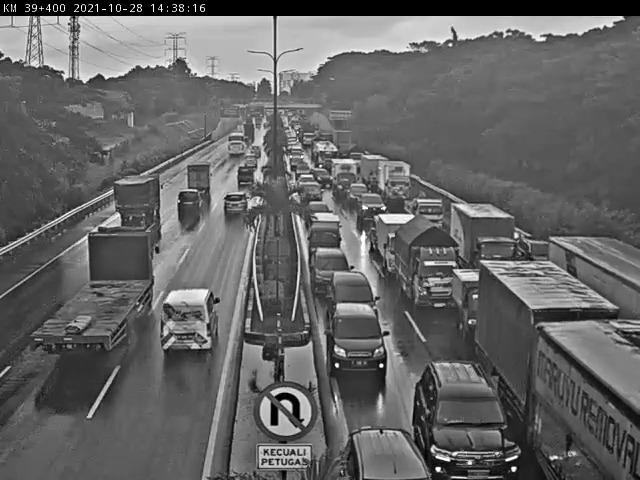big bus: (225, 129, 248, 159)
big truck: (31, 219, 159, 366), (396, 215, 465, 312), (375, 211, 428, 278), (115, 170, 168, 225), (185, 156, 228, 206)
car: (482, 260, 640, 480), (410, 353, 518, 480), (340, 425, 433, 480), (329, 301, 392, 382), (160, 283, 227, 359), (450, 202, 526, 261), (452, 266, 506, 342), (325, 269, 388, 331), (308, 246, 349, 297), (307, 219, 351, 254), (220, 189, 256, 221), (360, 191, 389, 229), (174, 189, 203, 217)
small truck: (235, 166, 258, 187)
